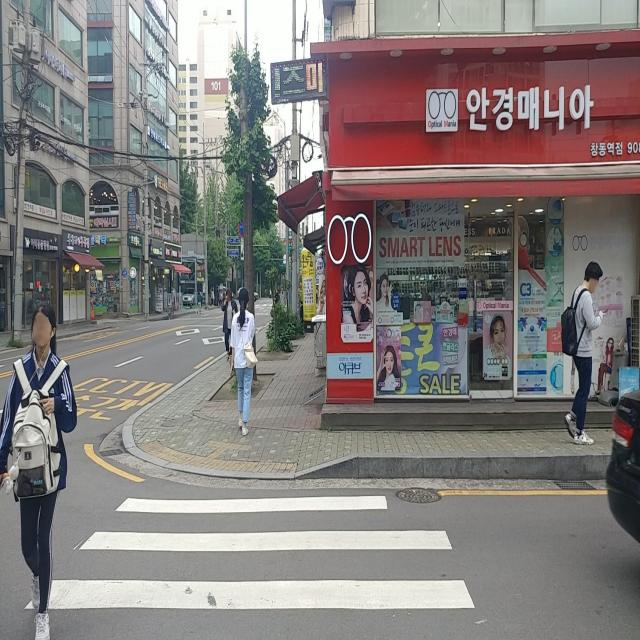횡단보도: (21, 493, 476, 614)
